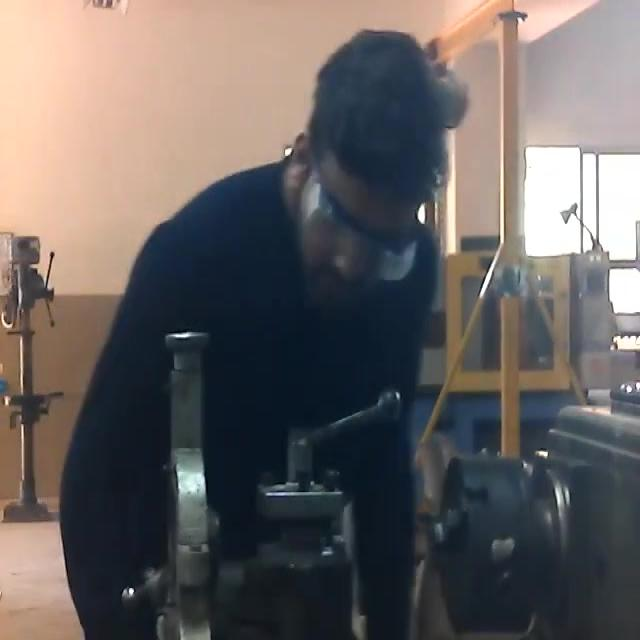googles: (296, 182, 420, 282)
